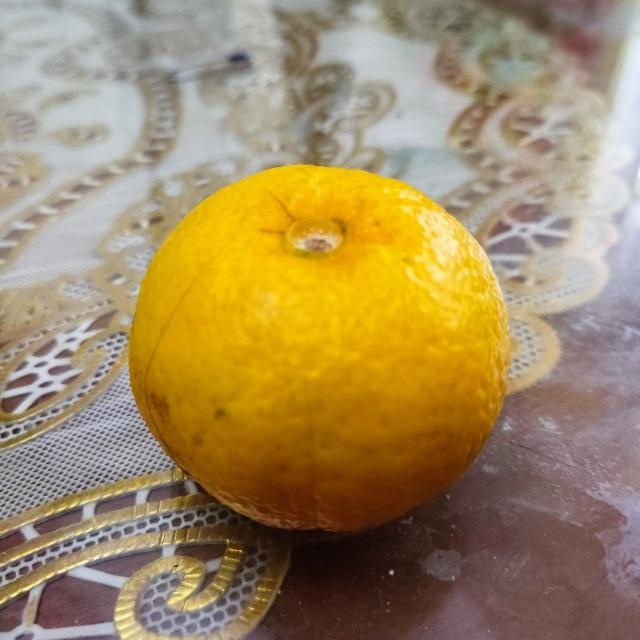agrume: (123, 155, 512, 530)
